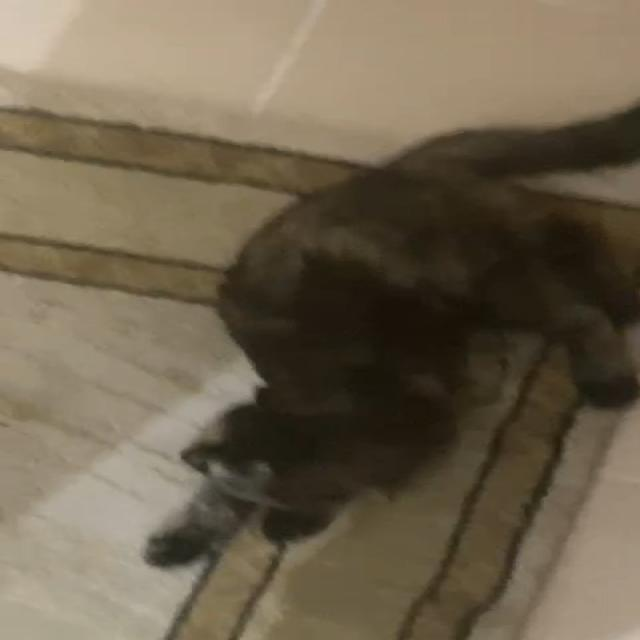authorized: (139, 95, 637, 637)
